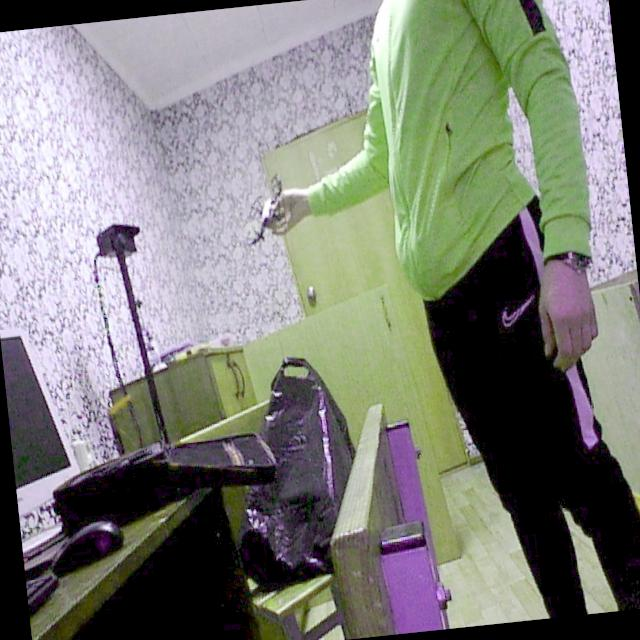drone: (234, 167, 298, 253)
